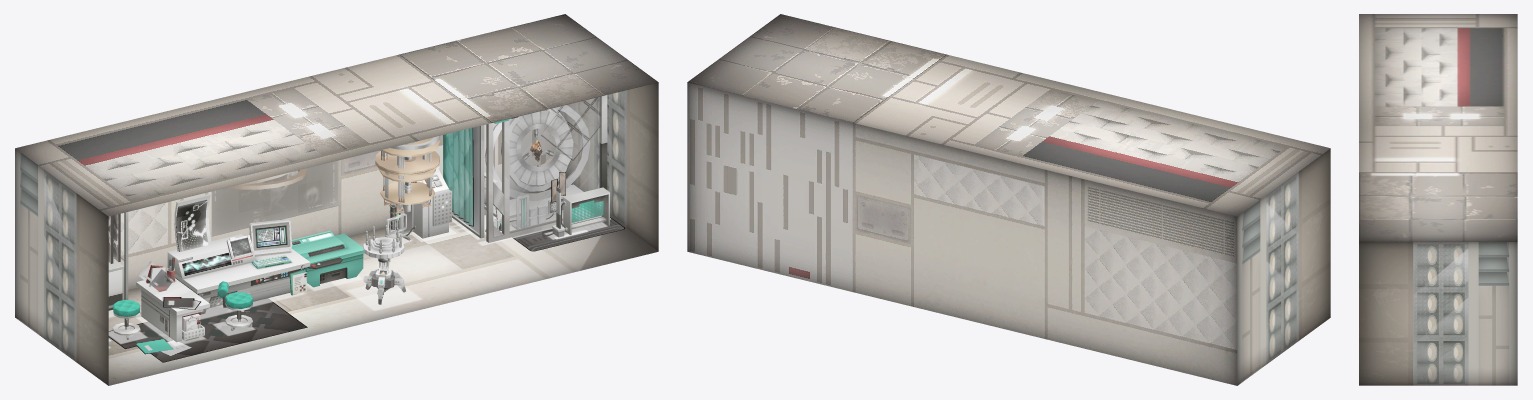
The model's file is aphrissaRoom.glb.
3 views of the same model, side by side, from view 1: azimuth 30°, elevation 25°; view 2: azimuth 150°, elevation 25°; view 3: azimuth 270°, elevation 25° (orthographic). The views are drawn at different scales.
Visible parts, largest first — view 1: ROOM_room, ROOM_floor, furni_aphrissaRoom_partition_04, furni_aphrissaRoom_machine_01, furni_aphrissaRoom_screen_02, furni_aphrissaRoom_carpet_01, furni_aphrissaRoom_originium_03, furni_aphrissaRoom_machine_02, furni_aphrissaRoom_computer_01, furni_aphrissaRoom_partition_02.001, furni_aphrissaRoom_desk_01, furni_aphrissaRoom_originium_02.001 (+21 smaller); view 2: ROOM_room, ROOM_LDoor; view 3: ROOM_room, ROOM_RDoor.
Part boxes in pixels (<box>): ROOM_room: <box>15,14,658,385</box>; ROOM_floor: <box>108,187,658,385</box>; furni_aphrissaRoom_partition_04: <box>509,97,600,232</box>; furni_aphrissaRoom_machine_01: <box>167,194,310,314</box>; furni_aphrissaRoom_screen_02: <box>211,161,338,236</box>; furni_aphrissaRoom_carpet_01: <box>108,298,307,362</box>; furni_aphrissaRoom_originium_03: <box>484,108,573,229</box>; furni_aphrissaRoom_machine_02: <box>176,199,305,295</box>; furni_aphrissaRoom_computer_01: <box>375,136,440,213</box>; furni_aphrissaRoom_partition_02.001: <box>486,95,607,242</box>; furni_aphrissaRoom_desk_01: <box>136,261,209,342</box>; furni_aphrissaRoom_originium_02.001: <box>484,105,590,231</box>; ROOM_room: <box>687,14,1330,385</box>; ROOM_LDoor: <box>1298,251,1316,341</box>; ROOM_room: <box>1359,14,1517,385</box>; ROOM_RDoor: <box>1382,320,1414,385</box>.
Bounding box in the file's own units: 7.56 × 2.2 × 2.22.
10 materials, 10 textured.
